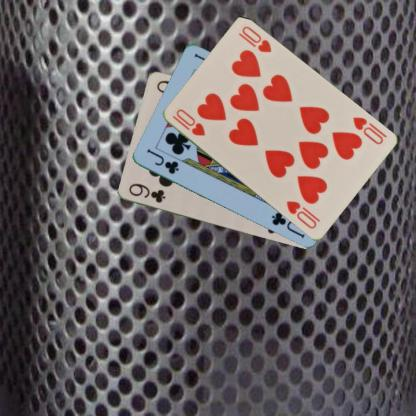10h: (170, 106, 206, 138), (350, 114, 384, 146)
9c: (126, 181, 166, 204)
Jc: (144, 146, 180, 176)
